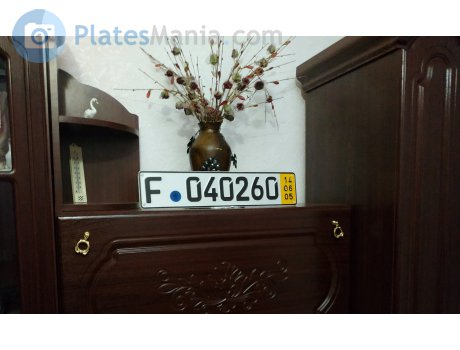License Plates: (144, 174, 282, 200)
